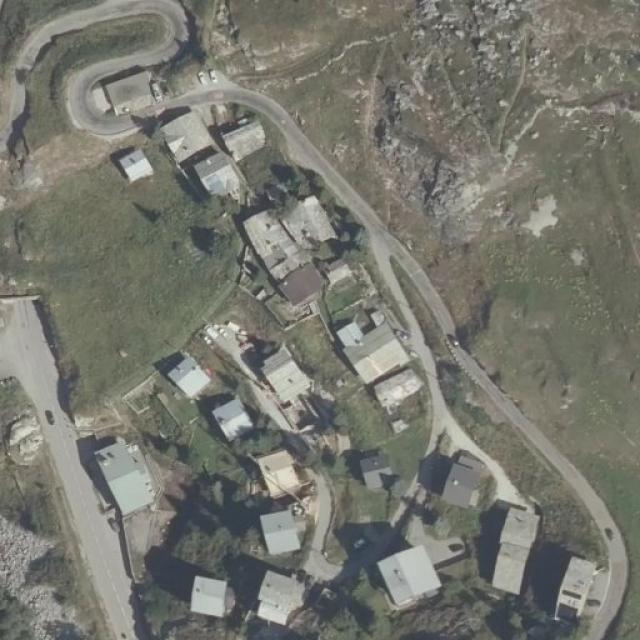maison: (248, 182, 334, 278), (376, 540, 443, 619), (488, 510, 542, 604), (341, 304, 408, 366), (554, 555, 602, 639), (97, 447, 151, 518), (258, 345, 312, 402), (159, 110, 213, 160), (192, 148, 245, 196), (258, 574, 305, 626), (191, 573, 231, 629), (100, 73, 156, 112), (442, 458, 482, 512), (259, 512, 302, 562), (372, 364, 423, 406), (260, 447, 301, 491), (223, 119, 267, 160), (113, 146, 155, 184), (171, 355, 207, 394), (218, 392, 252, 429), (362, 453, 387, 482)
